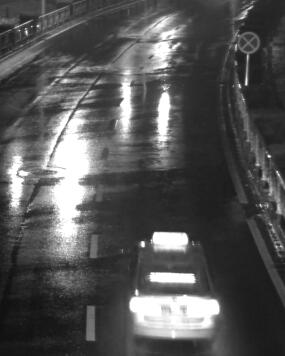car: (127, 231, 221, 347)
